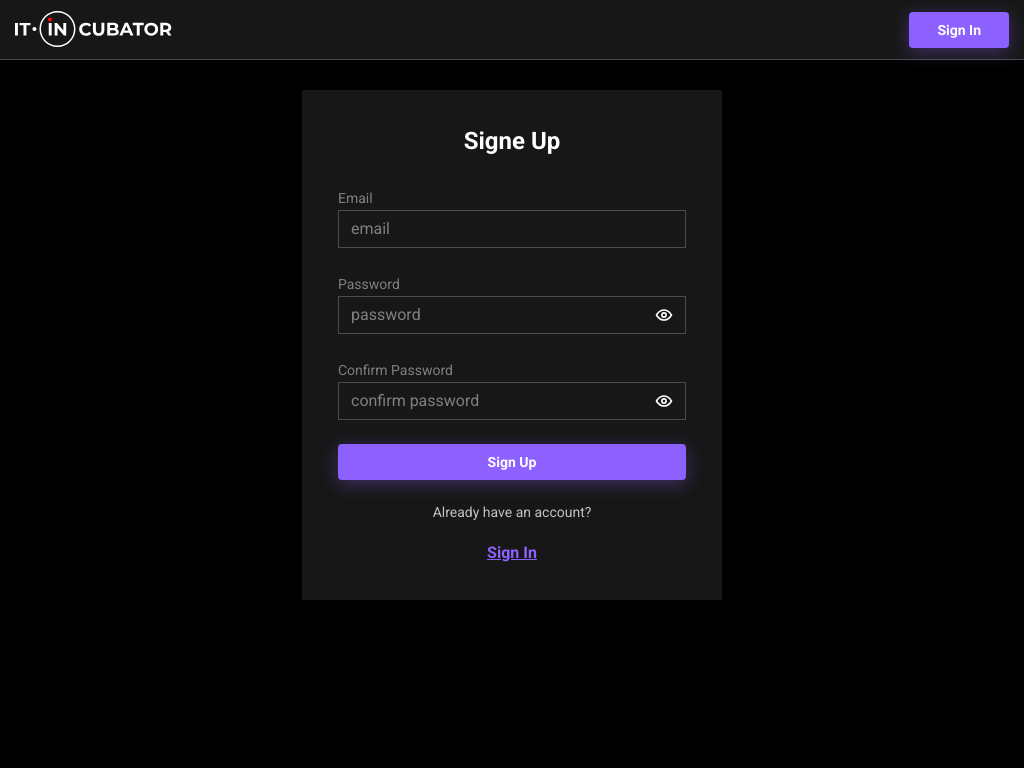
Test: Регистрация › Заполнение формы не правильно
// Ввод значений в input
Step 1. Type "qweasd" into the field named "email" → (512, 229), box [338,210,686,248]
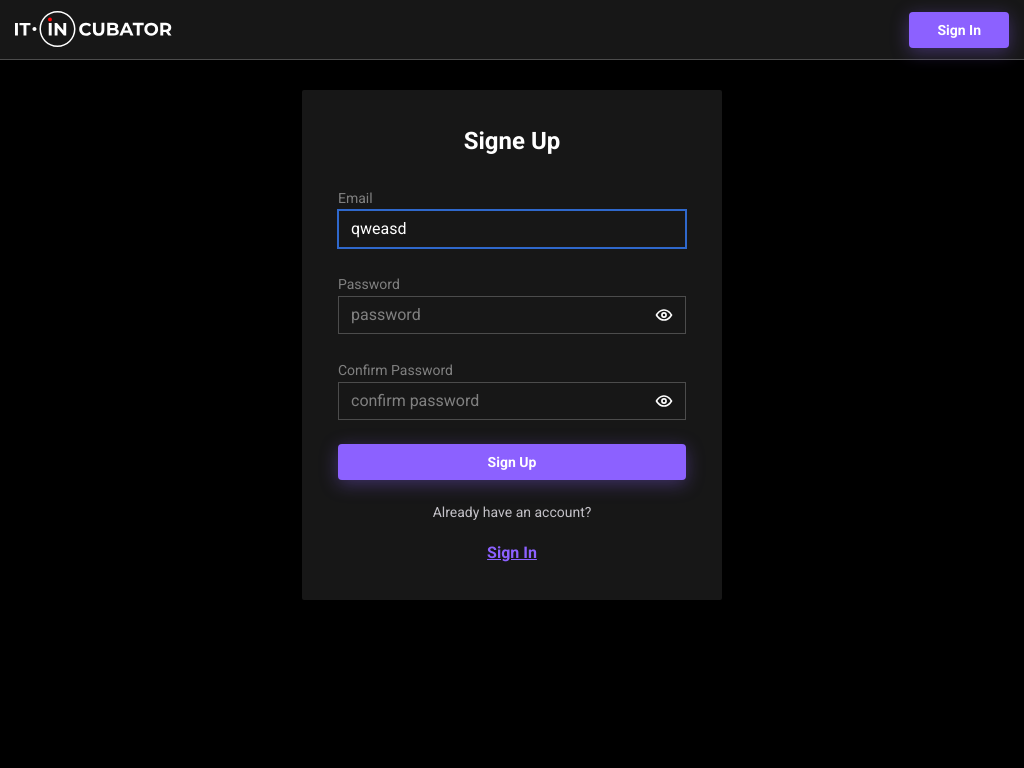
Step 2. Type "12" into the password field named "password" → (512, 315), box [338,296,686,334]
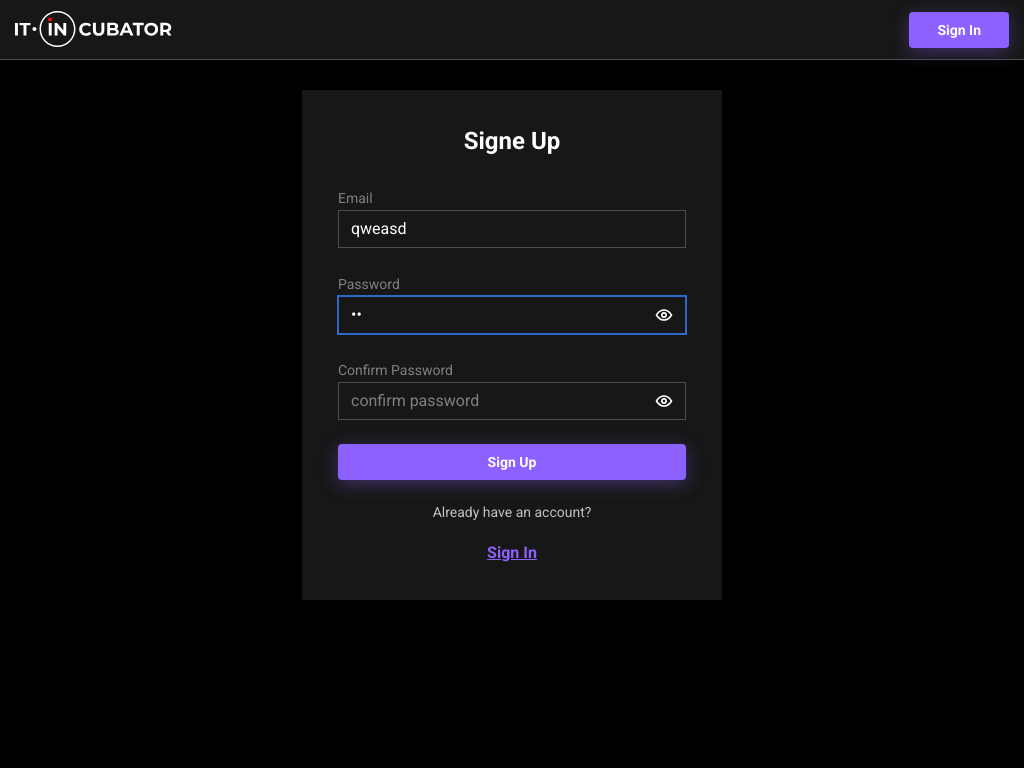
Step 3. Type "123" into the password field named "confirmPassword" → (512, 401), box [338,382,686,420]
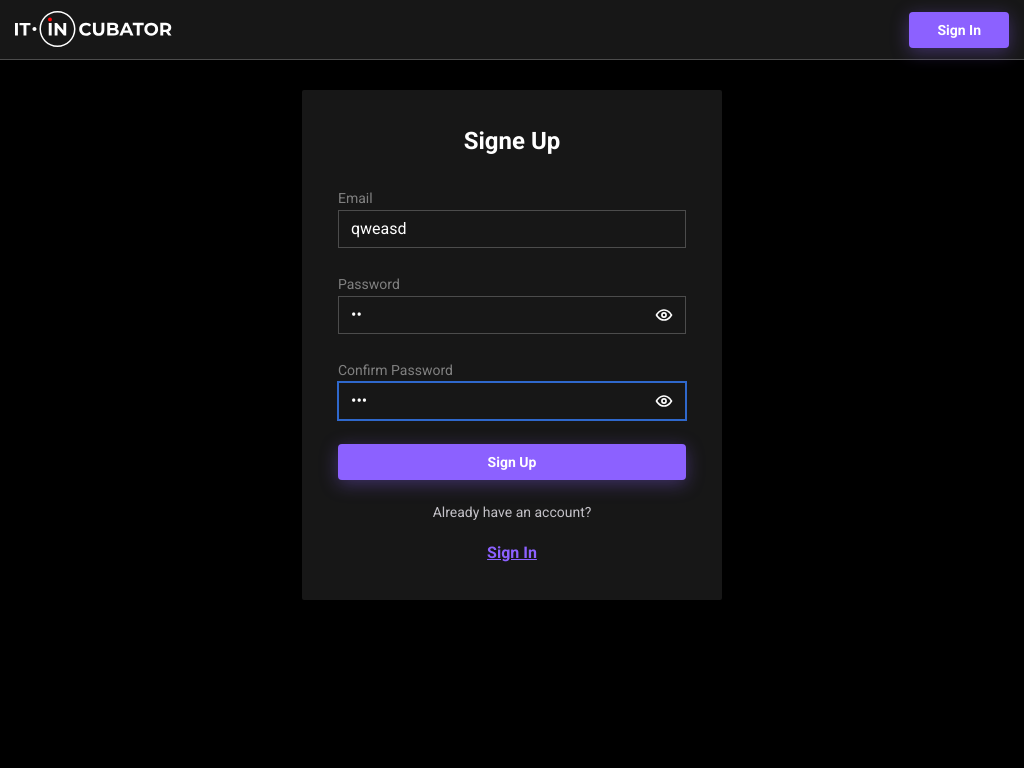
// Найти кнопку рядом с инпутом содержащей svg, для отображения пароля
Step 4. Click the 2nd button → click(664, 315), box [654,305,674,325]
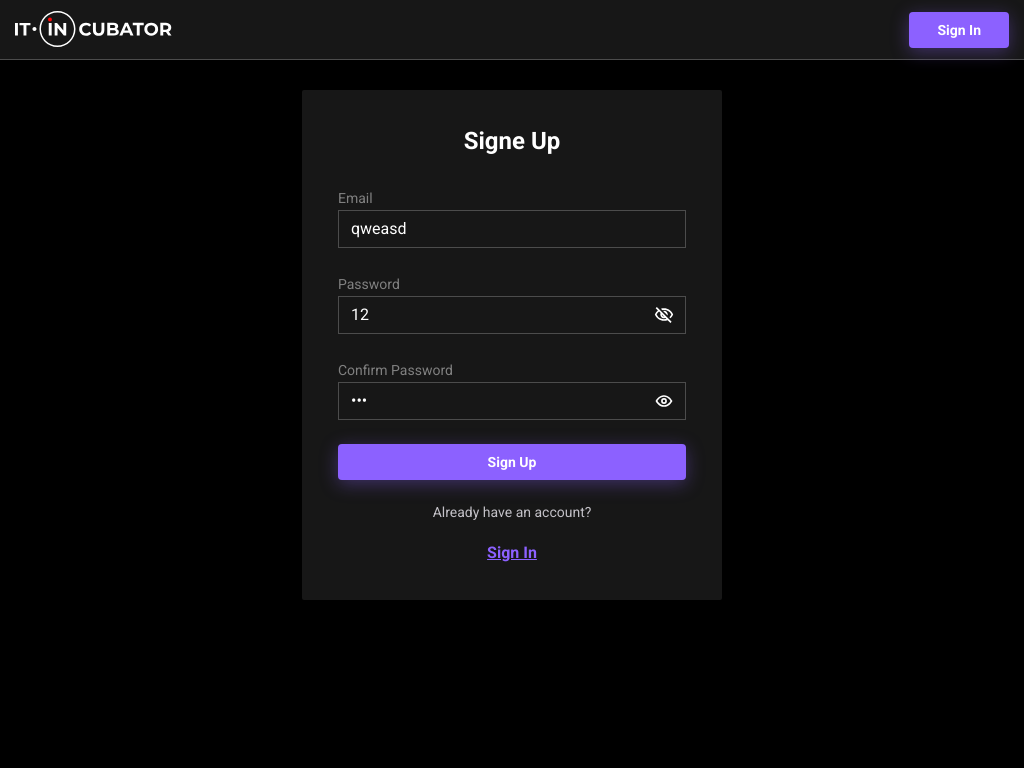
Step 5. Click the button without text below "Confirm Password" → click(664, 401), box [654,391,674,411]
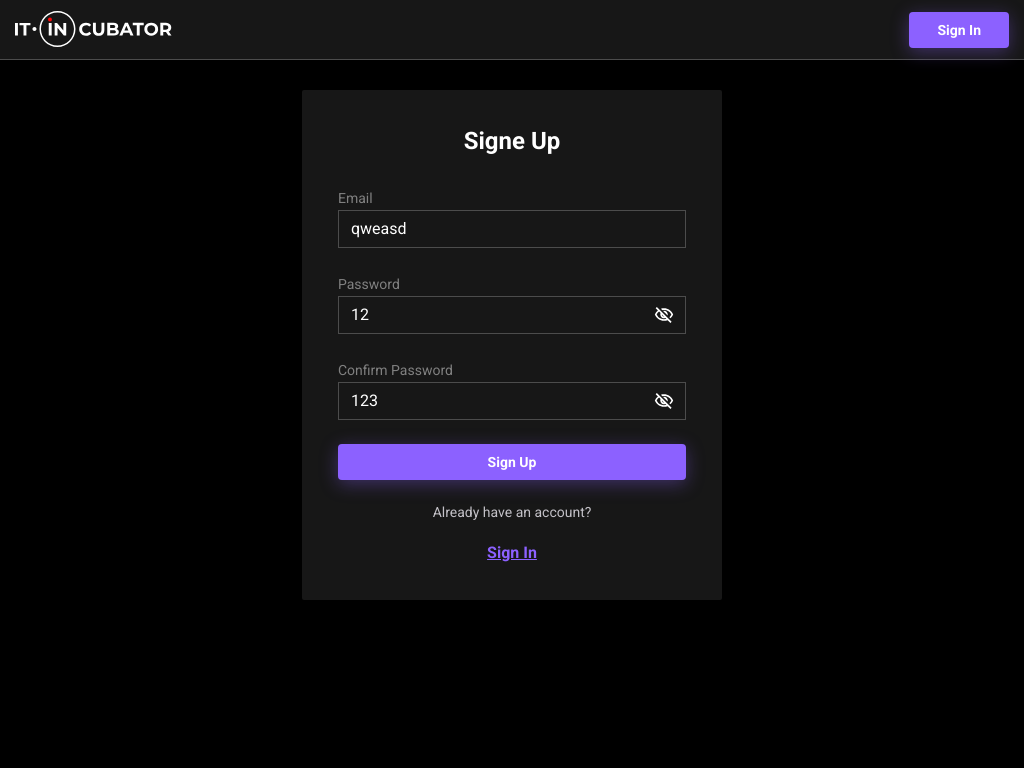
// Найти форму и затем кнопку с названием "Sign Up"
Step 6. Click the button "Sign Up" → click(512, 462), box [338,444,686,480]
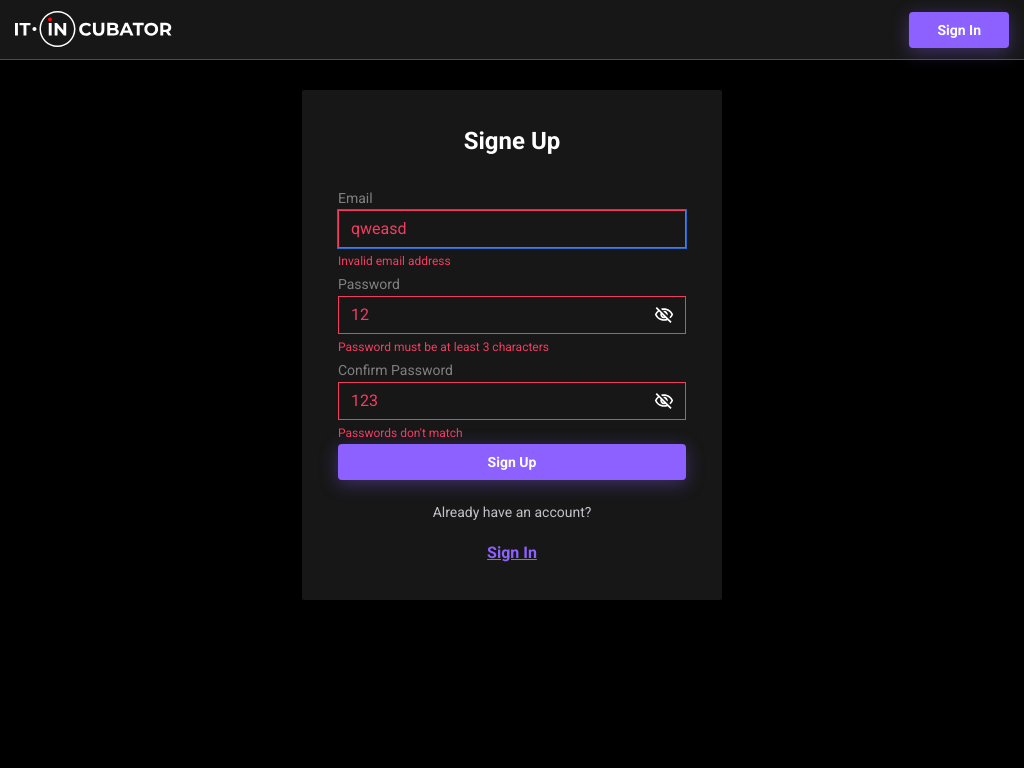
Check: the text "Invalid email address" is shown, box [338,254,451,268]
Check: the text "Password must be at least 3 characters" is shown, box [338,340,549,354]
Check: the text "Passwords don't match" is shown, box [338,426,463,440]
